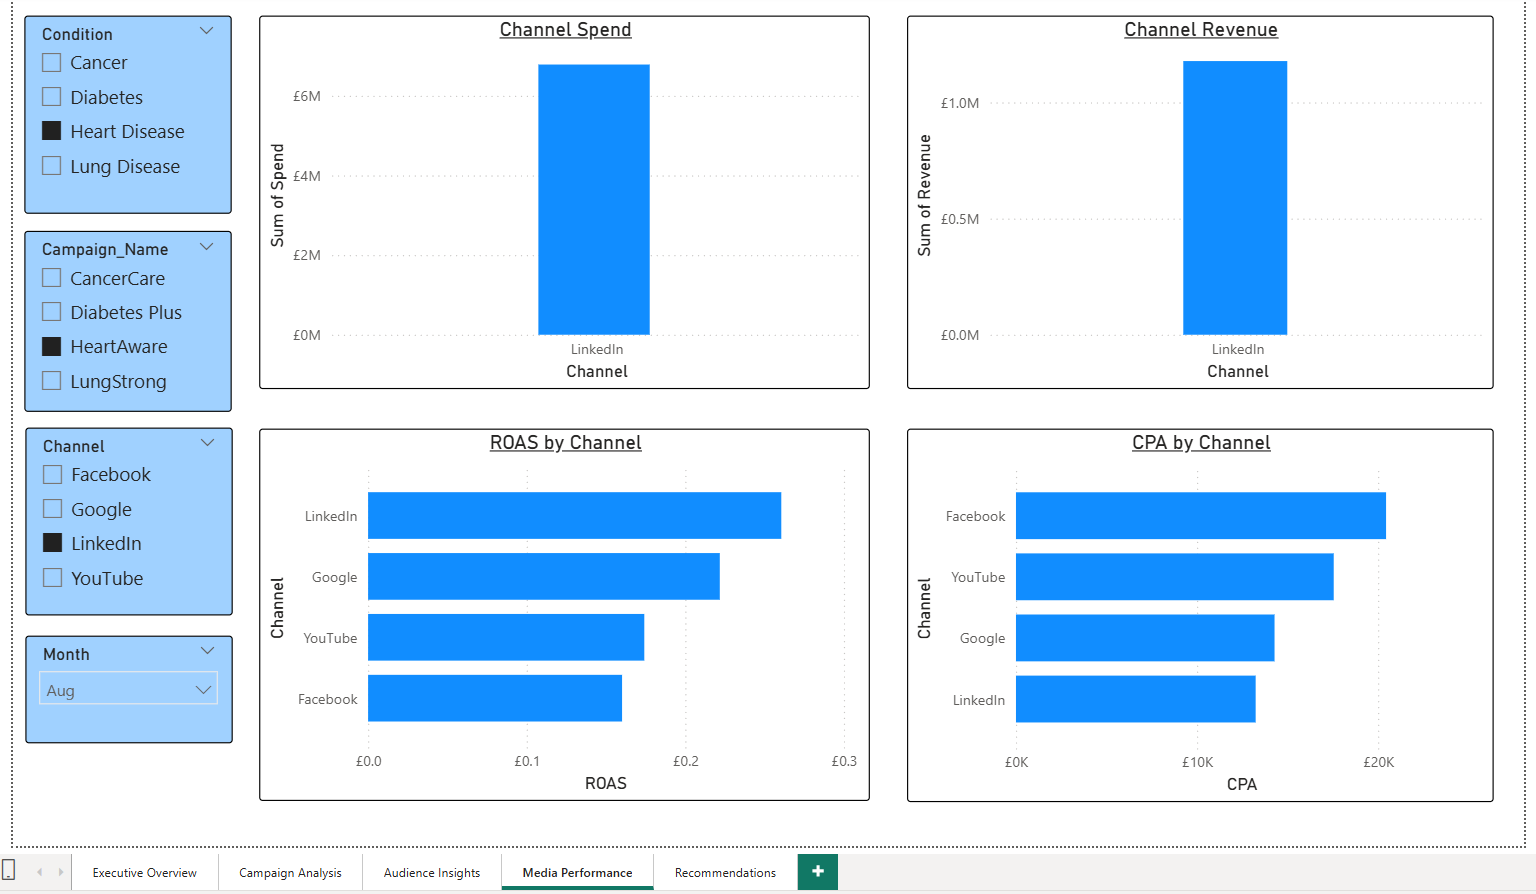

Layout of this report page (visuals, bound fields, positions):
{"tool":"powerbi","page":{"name":"Media Performance","canvas":[1280,720],"ordinal":3},"visuals":[{"type":"slicer","fields":{"Values":["Dashboard_Data(in).Channel"]},"box":[10.5,365.7,175.4,158.8],"z":0},{"type":"slicer","fields":{"Values":["Dashboard_Data(in).Campaign_Name"]},"box":[9.6,199,175.4,153.6],"z":1},{"type":"slicer","fields":{"Values":["DateTable.Month"]},"box":[10.5,542,175.4,91.6],"z":2},{"type":"clusteredColumnChart","title":"Channel Spend","fields":{"Category":["Dashboard_Data(in).Channel"],"Y":["Sum(Dashboard_Data(in).Spend)"]},"box":[208.7,17,517.7,316.2],"z":3},{"type":"clusteredColumnChart","title":"Channel Revenue","fields":{"Category":["Dashboard_Data(in).Channel"],"Y":["Sum(Dashboard_Data(in).Revenue)"]},"box":[757.7,17,497.1,316.2],"z":4},{"type":"clusteredBarChart","fields":{"Category":["clean_campaign.Channel"],"Y":["Measure.ROAS"]},"box":[208.7,366.3,517.7,315.3],"z":5},{"type":"clusteredBarChart","fields":{"Category":["clean_campaign.Channel"],"Y":["Measure.CPA"]},"box":[757.7,366.3,497.1,316.2],"z":6},{"type":"slicer","fields":{"Values":["clean_audience(in).Condition"]},"box":[9.6,16.6,175.4,168.4],"z":7}]}

Visuals, with their boxes in screenshot pixels (x1, y1, x2, y2):
slicer - Dashboard_Data(in).Channel: (x1=20, y1=425, x2=228, y2=613)
slicer - Dashboard_Data(in).Campaign_Name: (x1=19, y1=227, x2=227, y2=409)
slicer - DateTable.Month: (x1=20, y1=633, x2=228, y2=742)
"Channel Spend" clusteredColumnChart: (x1=255, y1=12, x2=868, y2=386)
"Channel Revenue" clusteredColumnChart: (x1=905, y1=12, x2=1493, y2=386)
clusteredBarChart - clean_campaign.Channel x Measure.ROAS: (x1=255, y1=425, x2=868, y2=799)
clusteredBarChart - clean_campaign.Channel x Measure.CPA: (x1=905, y1=425, x2=1493, y2=800)
slicer - clean_audience(in).Condition: (x1=19, y1=12, x2=227, y2=211)
